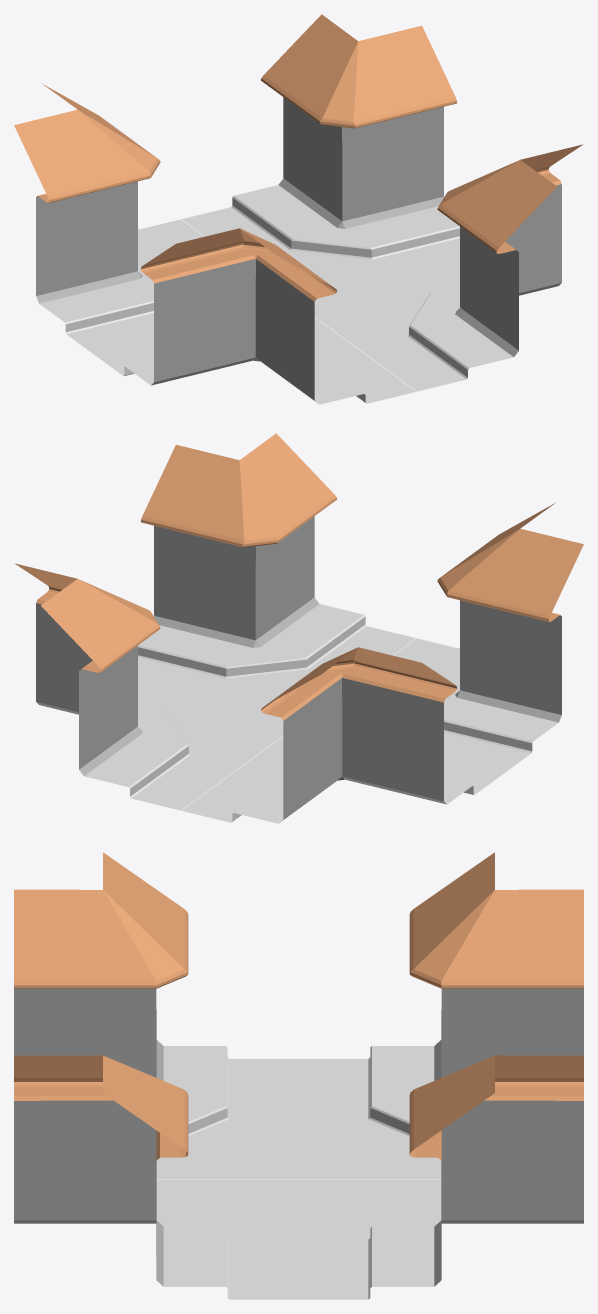
File: SegmenCross.fbx
The picture shows the model from 3 angles, top to bottom: view 1: azimuth 30°, elevation 25°; view 2: azimuth 150°, elevation 25°; view 3: azimuth 270°, elevation 25°; orthographic projection. The views are drawn at different scales.
Visible parts, largest first — view 1: Plane; view 2: Plane; view 3: Plane.
Part boxes in pixels (box(x1,y1,x2,y2)): Plane: box(14, 14, 583, 404); Plane: box(14, 433, 583, 823); Plane: box(14, 852, 583, 1299).
Bounding box in the file's own units: 800 × 320 × 800.
